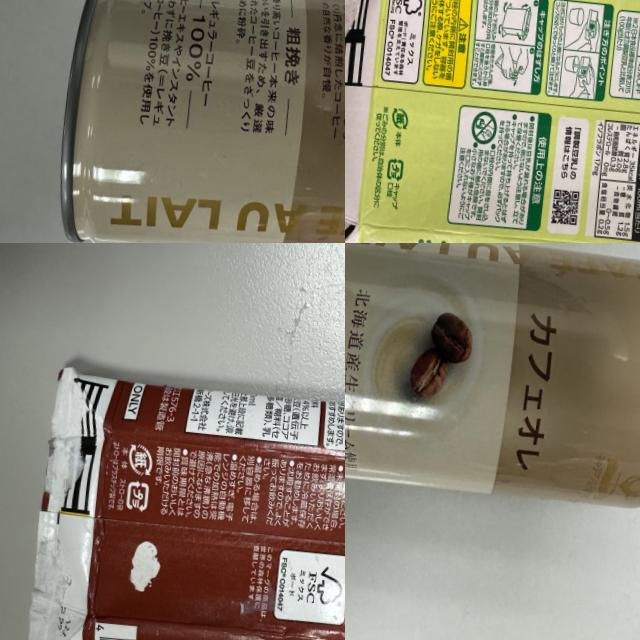Aluminium Foil: (18, 356, 345, 640), (345, 0, 640, 243)
Can: (345, 243, 640, 523), (46, 0, 345, 243)
